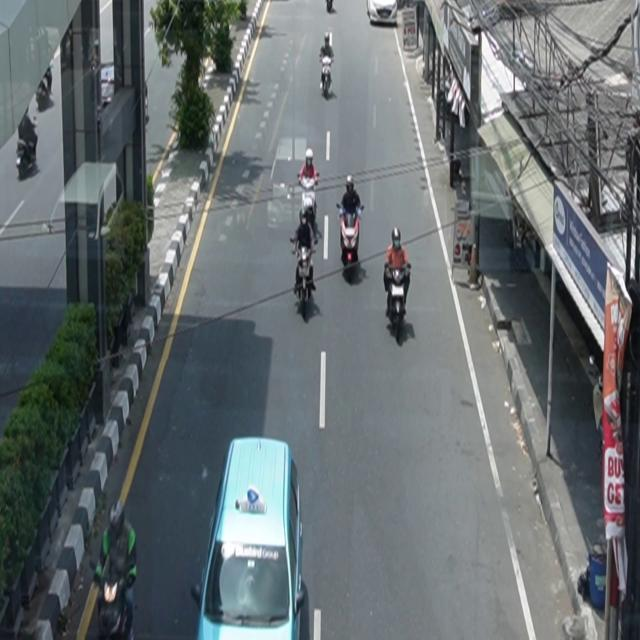bus: (191, 436, 308, 640)
car: (367, 1, 398, 26)
